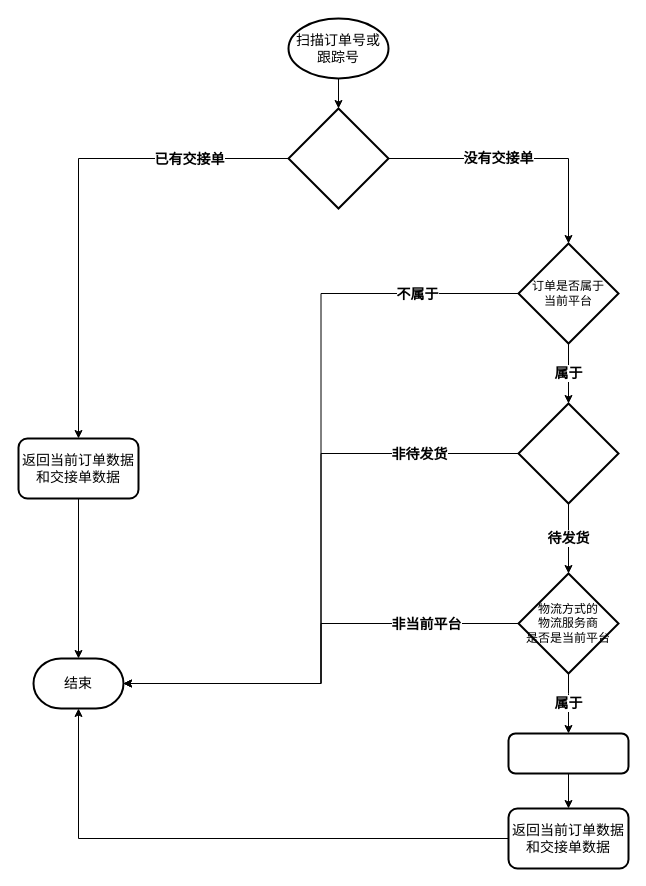
Image size: 646x886. Some labels were removed from this diagram. Here are the shapes that lost their labels. From the top down, the centre of each, then its label:
At [338,158]: "订单是否 有交接单".
At [568,453]: "订单是否待发货".
At [568,753]: "创建交接单草稿".
